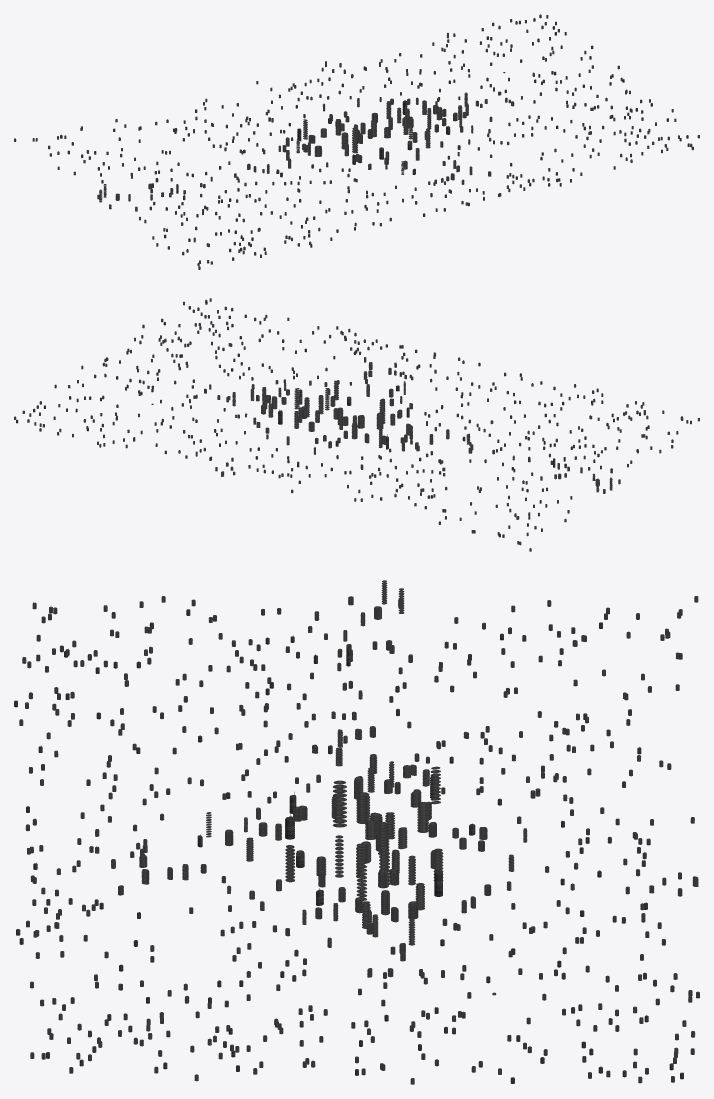
3 renders of one model, top to bottom at view 1: azimuth 30°, elevation 25°; view 2: azimuth 150°, elevation 25°; view 3: azimuth 270°, elevation 25°, orthographic. The views are drawn at different scales.
Visible parts, largest first — view 1: Scatter city_SC low-poly building facade_0.001, Scatter city, Scatter city_SC low-poly building facade_0.002, Scatter city_SC low-poly building facade_0.003, Scatter city_SC low-poly building facade_0.005, Scatter city_SC low-poly building facade_0.004; view 2: Scatter city_SC low-poly building facade_0.001, Scatter city, Scatter city_SC low-poly building facade_0.002, Scatter city_SC low-poly building facade_0.003, Scatter city_SC low-poly building facade_0.005, Scatter city_SC low-poly building facade_0.004; view 3: Scatter city_SC low-poly building facade_0.001, Scatter city, Scatter city_SC low-poly building facade_0.002, Scatter city_SC low-poly building facade_0.003, Scatter city_SC low-poly building facade_0.005, Scatter city_SC low-poly building facade_0.004.
Part boxes in pixels (x1,y1,x2,y2): Scatter city_SC low-poly building facade_0.001: (14, 15, 669, 263); Scatter city: (35, 20, 699, 266); Scatter city_SC low-poly building facade_0.002: (32, 15, 692, 264); Scatter city_SC low-poly building facade_0.003: (48, 14, 679, 269); Scatter city_SC low-poly building facade_0.005: (165, 26, 688, 241); Scatter city_SC low-poly building facade_0.004: (60, 18, 689, 251); Scatter city_SC low-poly building facade_0.001: (14, 308, 683, 551); Scatter city: (39, 298, 691, 544); Scatter city_SC low-poly building facade_0.002: (16, 299, 688, 545); Scatter city_SC low-poly building facade_0.003: (16, 309, 699, 536); Scatter city_SC low-poly building facade_0.005: (33, 306, 647, 467); Scatter city_SC low-poly building facade_0.004: (27, 301, 640, 537); Scatter city_SC low-poly building facade_0.001: (25, 580, 699, 1083); Scatter city: (22, 596, 695, 1081); Scatter city_SC low-poly building facade_0.002: (14, 599, 692, 1084); Scatter city_SC low-poly building facade_0.003: (19, 588, 698, 1079); Scatter city_SC low-poly building facade_0.005: (16, 622, 626, 1077); Scatter city_SC low-poly building facade_0.004: (14, 631, 673, 1083).
Bounding box in the file's own units: 50.12 × 2.1 × 30.05.
1 material, 1 textured.
